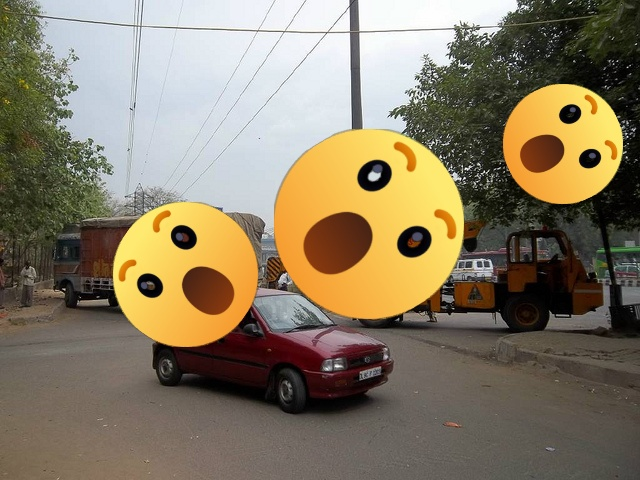wow: (274, 129, 464, 319), (113, 202, 258, 347), (503, 84, 623, 204)
